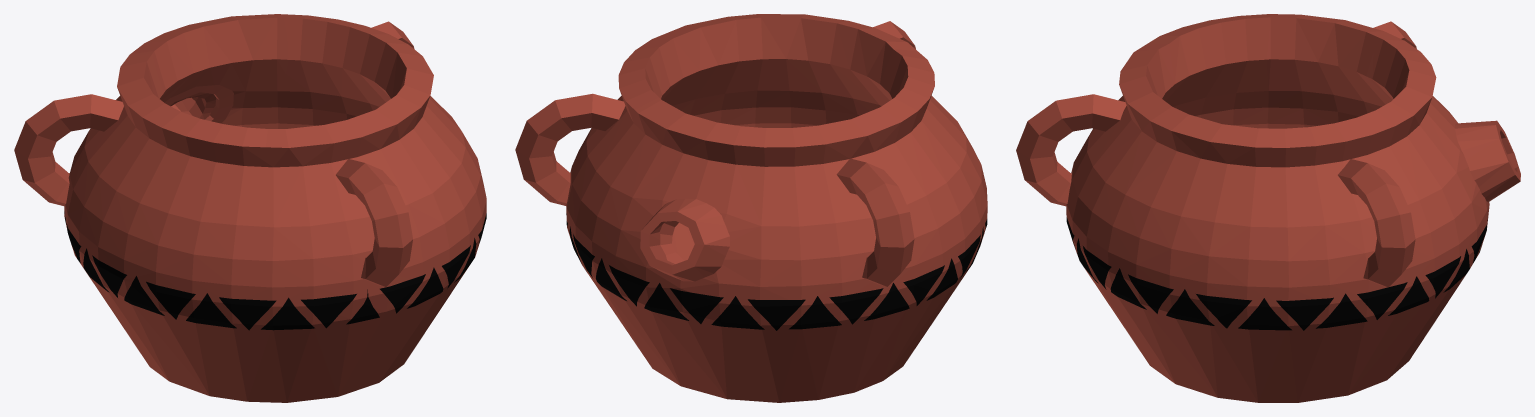
The model's file is Pottery 19_3b.fbx.
The picture shows the model from 3 angles, left to right: view 1: azimuth 30°, elevation 25°; view 2: azimuth 150°, elevation 25°; view 3: azimuth 270°, elevation 25°; orthographic projection.
Visible parts, largest first — view 1: Pottery 19_3b.003, Pottery 19_3b.005, Pottery 19_3b, Pottery 19_3b.001, Pottery 19_3b.004, Pottery 19_3b.002; view 2: Pottery 19_3b.002, Pottery 19_3b.001, Pottery 19_3b.004, Pottery 19_3b, Pottery 19_3b.003, Pottery 19_3b.005; view 3: Pottery 19_3b.004, Pottery 19_3b.003, Pottery 19_3b, Pottery 19_3b.002, Pottery 19_3b.001, Pottery 19_3b.005.
Part boxes in pixels (<box>): Pottery 19_3b.003: <box>265,85,482,361</box>; Pottery 19_3b.005: <box>98,103,273,356</box>; Pottery 19_3b: <box>99,270,466,402</box>; Pottery 19_3b.001: <box>14,53,164,291</box>; Pottery 19_3b.004: <box>275,14,486,234</box>; Pottery 19_3b.002: <box>116,14,288,128</box>; Pottery 19_3b.002: <box>592,97,806,328</box>; Pottery 19_3b.001: <box>759,98,965,344</box>; Pottery 19_3b.004: <box>515,17,739,303</box>; Pottery 19_3b: <box>608,223,958,402</box>; Pottery 19_3b.003: <box>721,14,916,127</box>; Pottery 19_3b.005: <box>880,49,987,284</box>; Pottery 19_3b.004: <box>1136,104,1464,369</box>; Pottery 19_3b.003: <box>1016,44,1188,332</box>; Pottery 19_3b: <box>1082,265,1462,402</box>; Pottery 19_3b.002: <box>1366,37,1520,290</box>; Pottery 19_3b.001: <box>1266,14,1416,128</box>; Pottery 19_3b.005: <box>1147,14,1270,128</box>.
Bounding box in the file's own units: 80.26 × 53.39 × 89.42.
